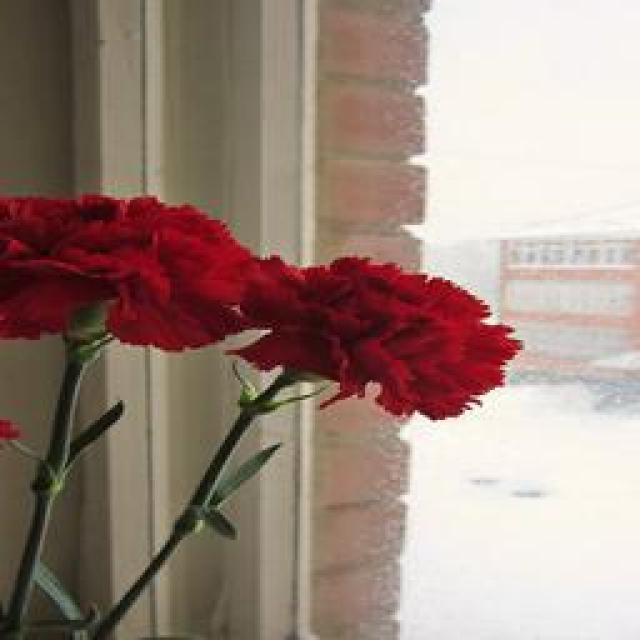carnation: (246, 227, 534, 455)
